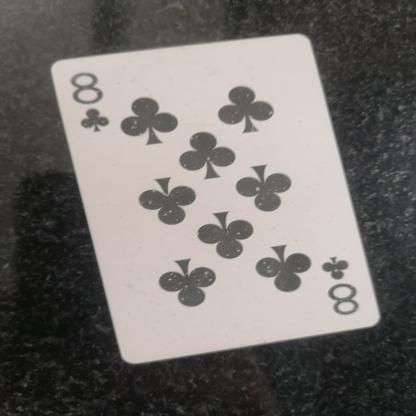8C: (306, 246, 380, 318), (66, 68, 118, 138)
